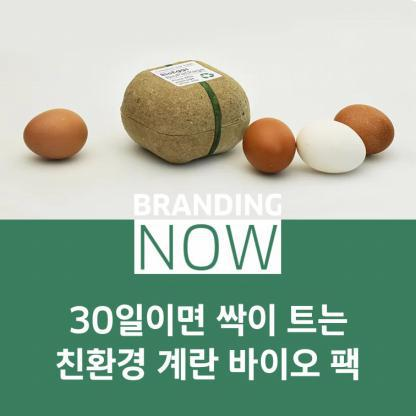egg: (282, 104, 366, 178), (9, 103, 98, 170), (318, 89, 395, 162), (223, 112, 298, 176)
